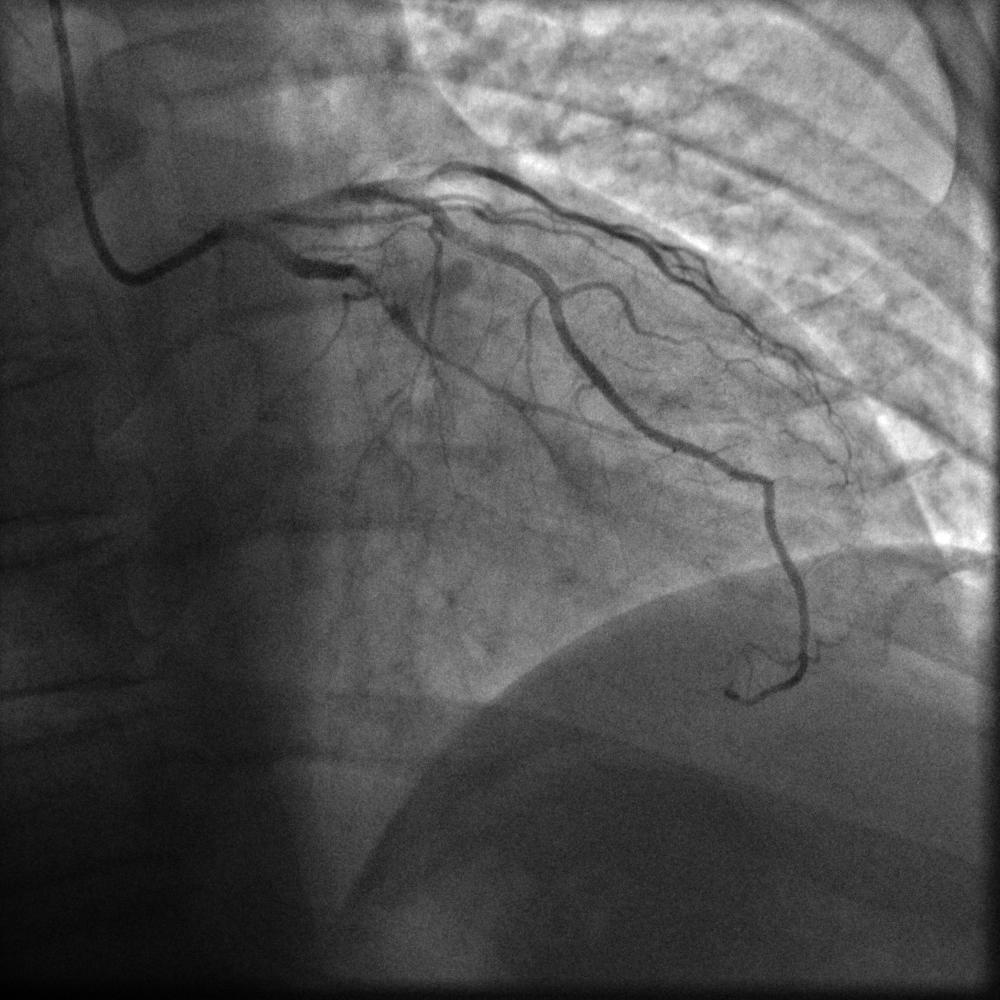Stenosis: (353, 267, 408, 318)
